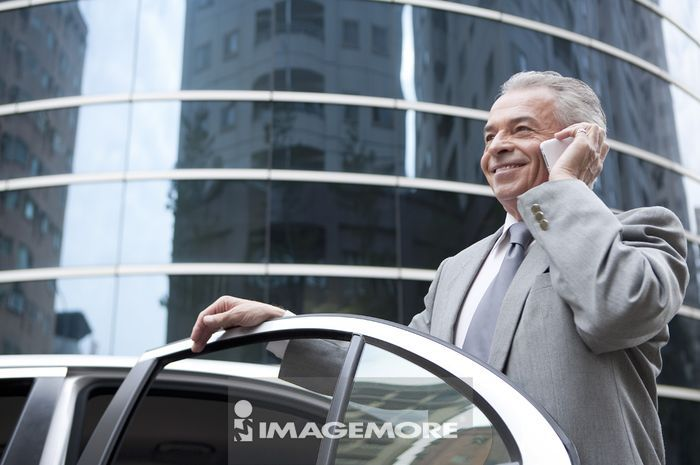talk: (480, 112, 610, 206)
